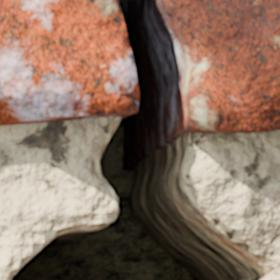broken_brick: (0, 0, 137, 126), (165, 0, 279, 133)
crack: (0, 0, 279, 279)
